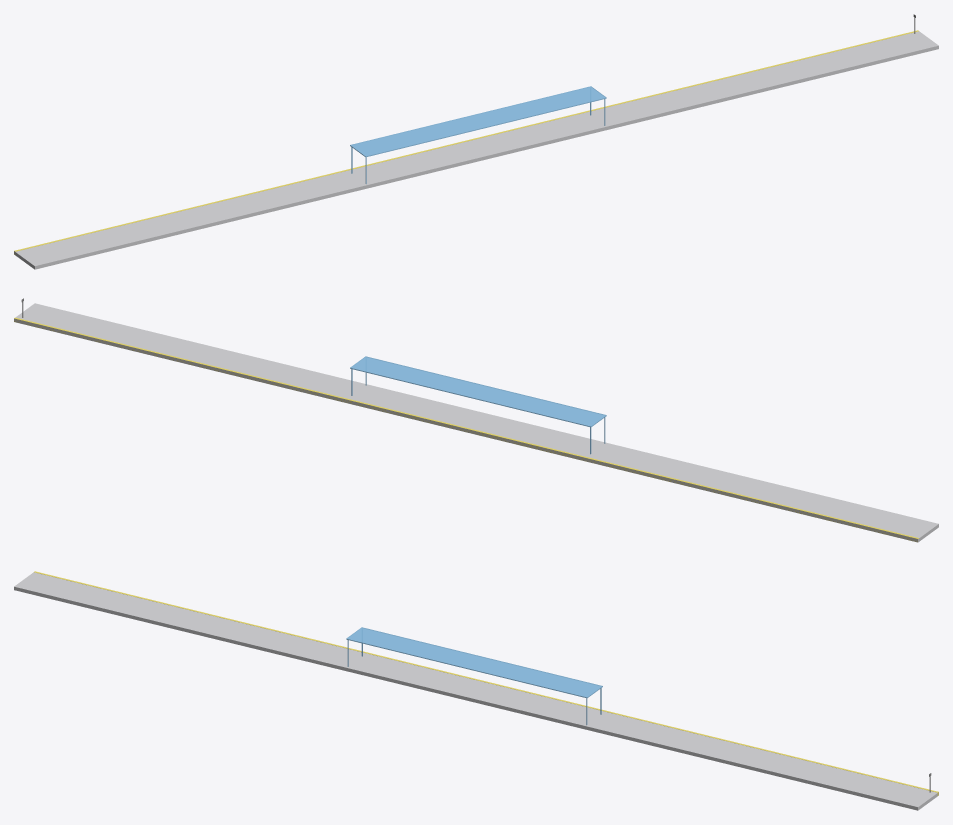
File: rail_platform.glb
3 views of the same model, one above another, from view 1: azimuth 30°, elevation 25°; view 2: azimuth 150°, elevation 25°; view 3: azimuth 330°, elevation 25° (orthographic).
Parts seen in each view (by area): view 1: platform_body@0, shelter@0, boarding_edge@0; view 2: platform_body@0, shelter@0, boarding_edge@0; view 3: platform_body@0, shelter@0, boarding_edge@0.
Part boxes in pixels (x1,y1,x2,y2): platform_body@0: [14, 31, 938, 269]; shelter@0: [350, 86, 606, 184]; boarding_edge@0: [14, 30, 918, 254]; platform_body@0: [14, 303, 938, 542]; shelter@0: [350, 356, 606, 454]; boarding_edge@0: [14, 317, 918, 542]; platform_body@0: [14, 572, 938, 810]; shelter@0: [346, 627, 602, 725]; boarding_edge@0: [34, 571, 938, 795].
Size of the model in its own units: 150 by 5.05 by 6.
